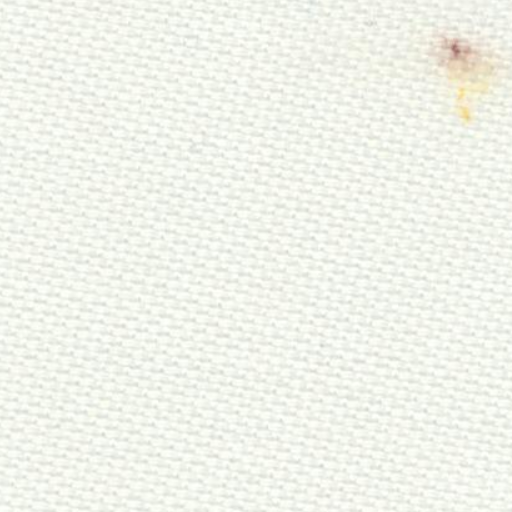WuZi: (410, 16, 504, 122)
